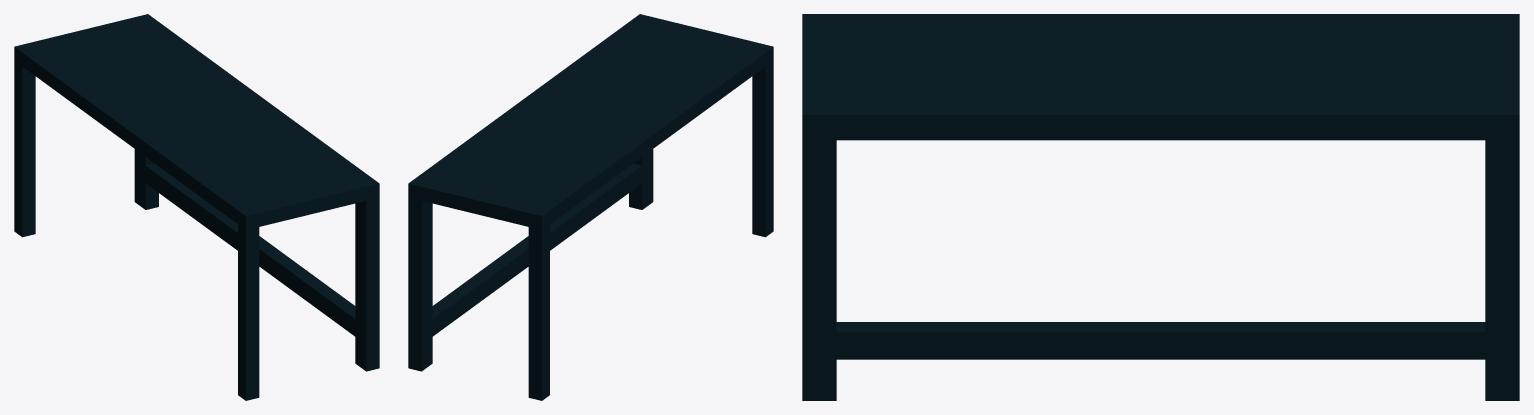
Rendered from bar.fbx.
The picture shows the model from 3 angles, left to right: view 1: azimuth 30°, elevation 25°; view 2: azimuth 150°, elevation 25°; view 3: azimuth 270°, elevation 25°; orthographic projection. The views are drawn at different scales.
Visible parts, largest first — view 1: Cube; view 2: Cube; view 3: Cube.
Part boxes in pixels (x1=…): Cube: x1=14, y1=14, x2=379, y2=400; Cube: x1=408, y1=14, x2=773, y2=400; Cube: x1=802, y1=14, x2=1519, y2=400.
Bounding box in the file's own units: 1 × 1.32 × 3.
